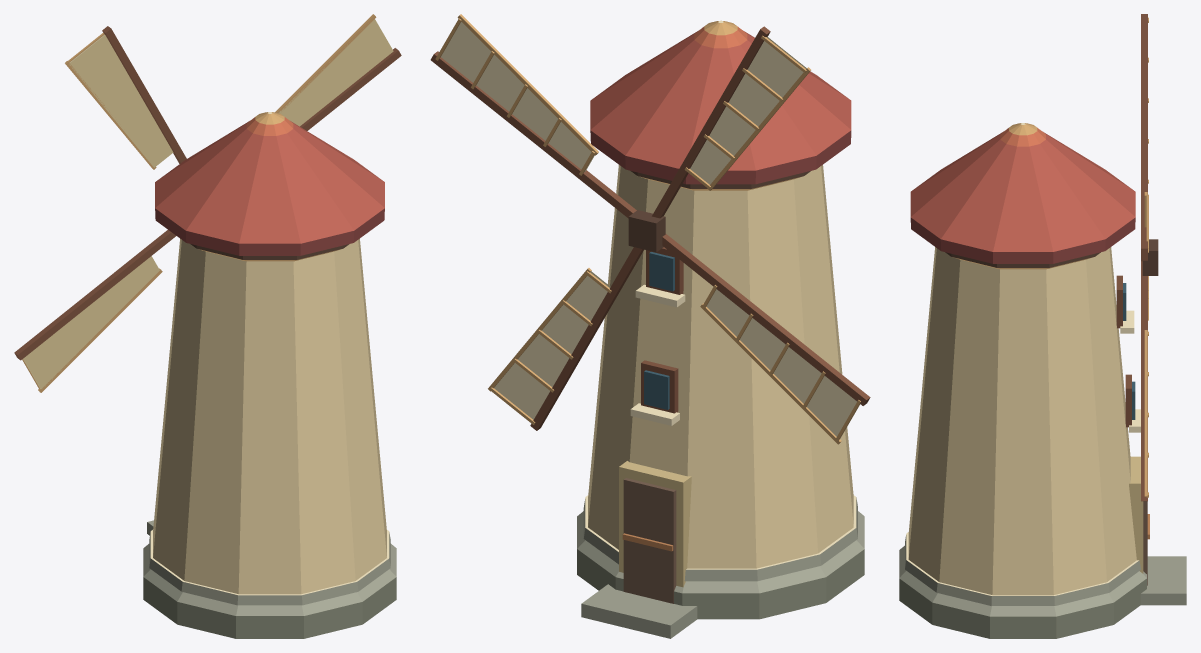
Rendered from Moulin.fbx.
3 renders of one model, left to right at view 1: azimuth 30°, elevation 25°; view 2: azimuth 150°, elevation 25°; view 3: azimuth 270°, elevation 25°, orthographic. The views are drawn at different scales.
Visible parts, largest first — view 1: Moulin; view 2: Moulin; view 3: Moulin.
Boxes of the visible parts, <box> form: Moulin: <box>14,14,401,638</box>; Moulin: <box>430,14,870,638</box>; Moulin: <box>899,14,1186,638</box>.
Bounding box in the file's own units: 879 × 1175 × 583.
Materials: 1 (1 with a texture image).
